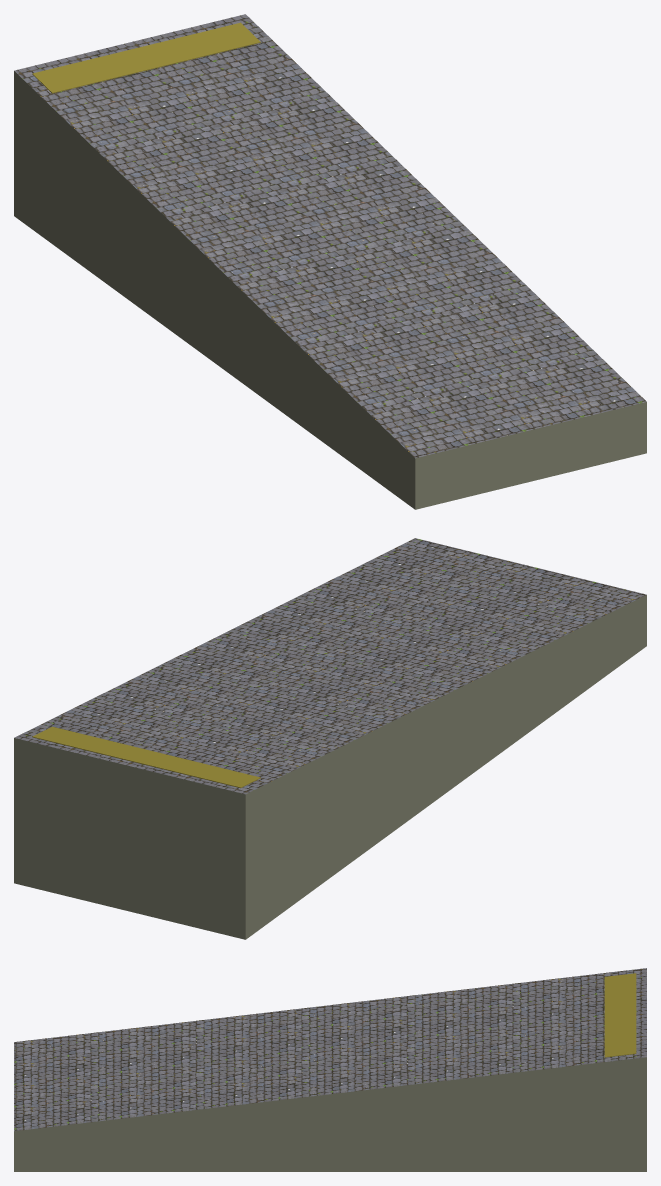
File: lrt_platform_end.fbx
3 renders of one model, top to bottom at view 1: azimuth 30°, elevation 25°; view 2: azimuth 150°, elevation 25°; view 3: azimuth 270°, elevation 25°, orthographic. The views are drawn at different scales.
Parts seen in each view (by area): view 1: lrt_platform_end.002; view 2: lrt_platform_end.002; view 3: lrt_platform_end.002.
Boxes of the visible parts, x1,y1,x2,y2 form: lrt_platform_end.002: [14, 14, 646, 509]; lrt_platform_end.002: [14, 538, 646, 939]; lrt_platform_end.002: [14, 968, 646, 1171].
Size of the model in its own units: 2 by 1.2 by 6.
